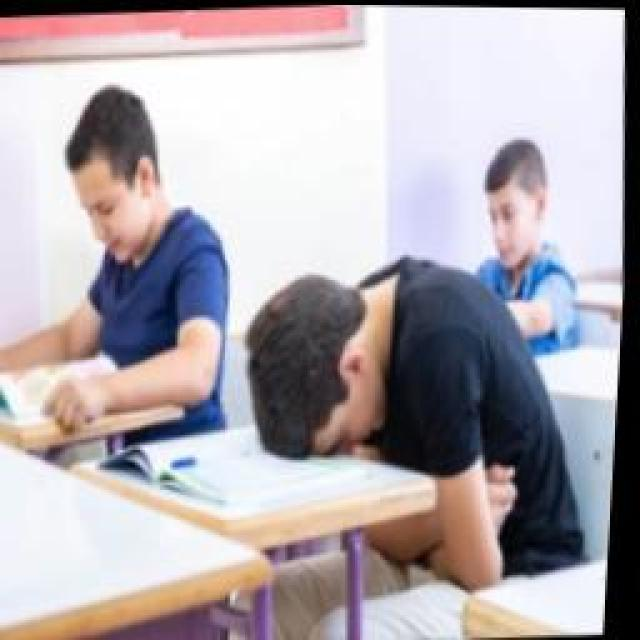sleep: (240, 237, 562, 485)
study: (15, 78, 245, 418), (453, 130, 585, 355)
